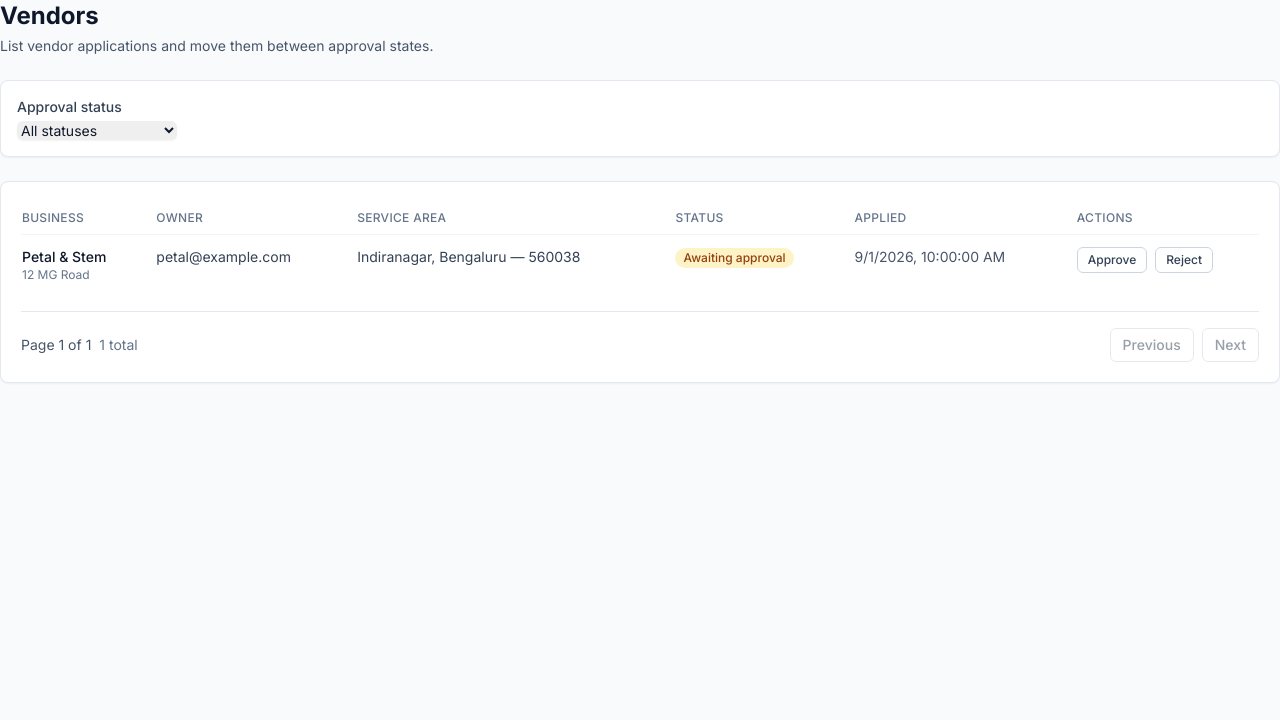
Test: AdminVendorsPage › approves without asking for a reason
Expected: the table is shown, [21,202,1259,295]
Click the button "Approve" at (1112,260), box [1077,247,1147,273]
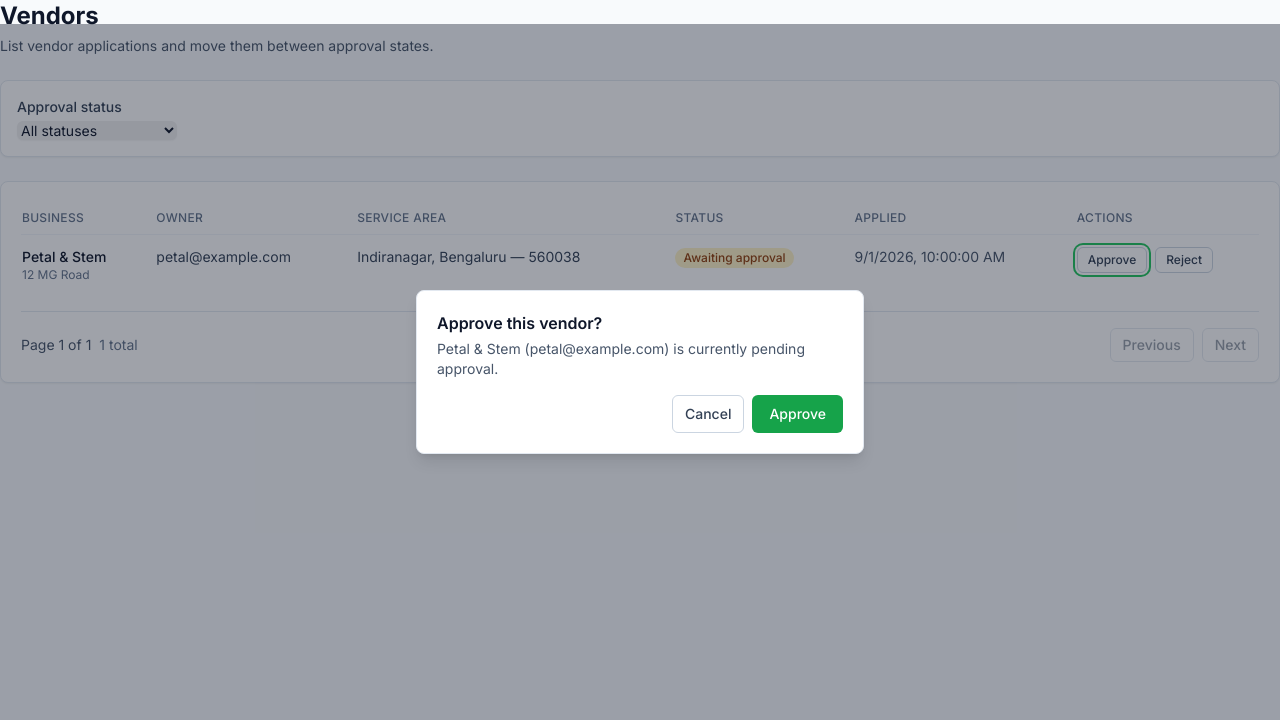
Click the button "Approve" at (798,414), box [752,395,843,433]
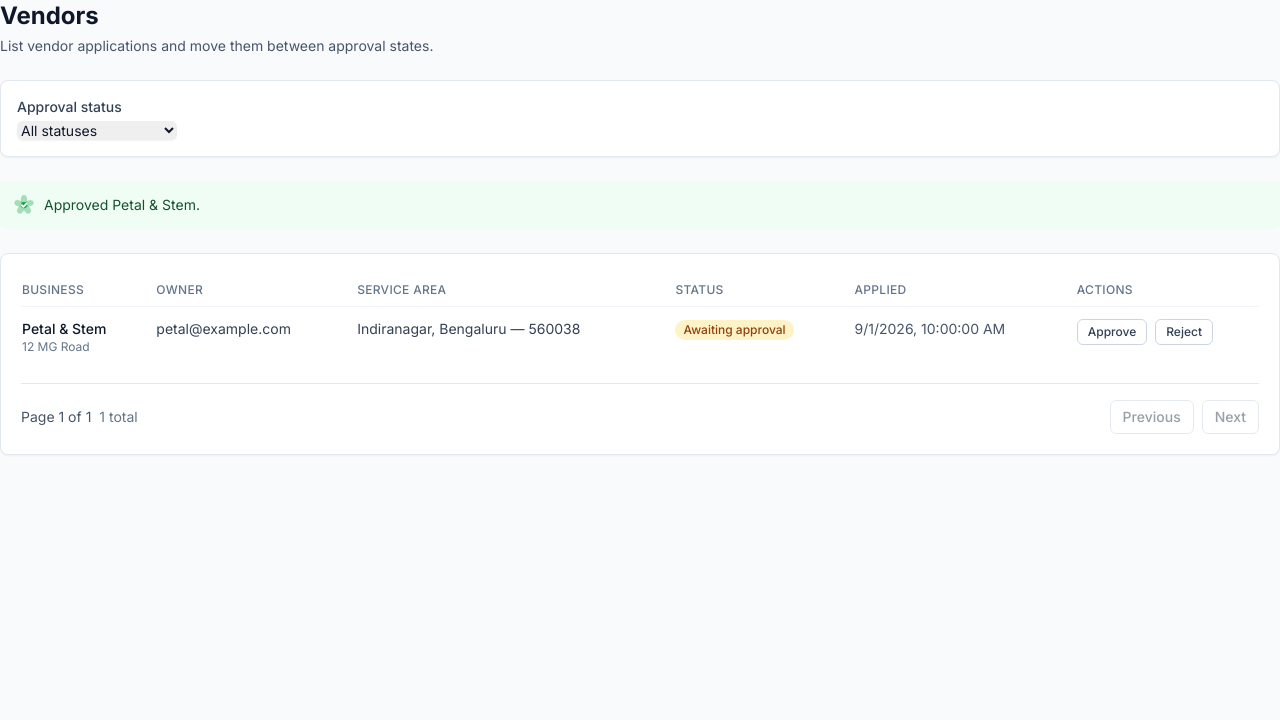
Now the text "Approved Petal & Stem." is shown, box [44,195,200,215]
